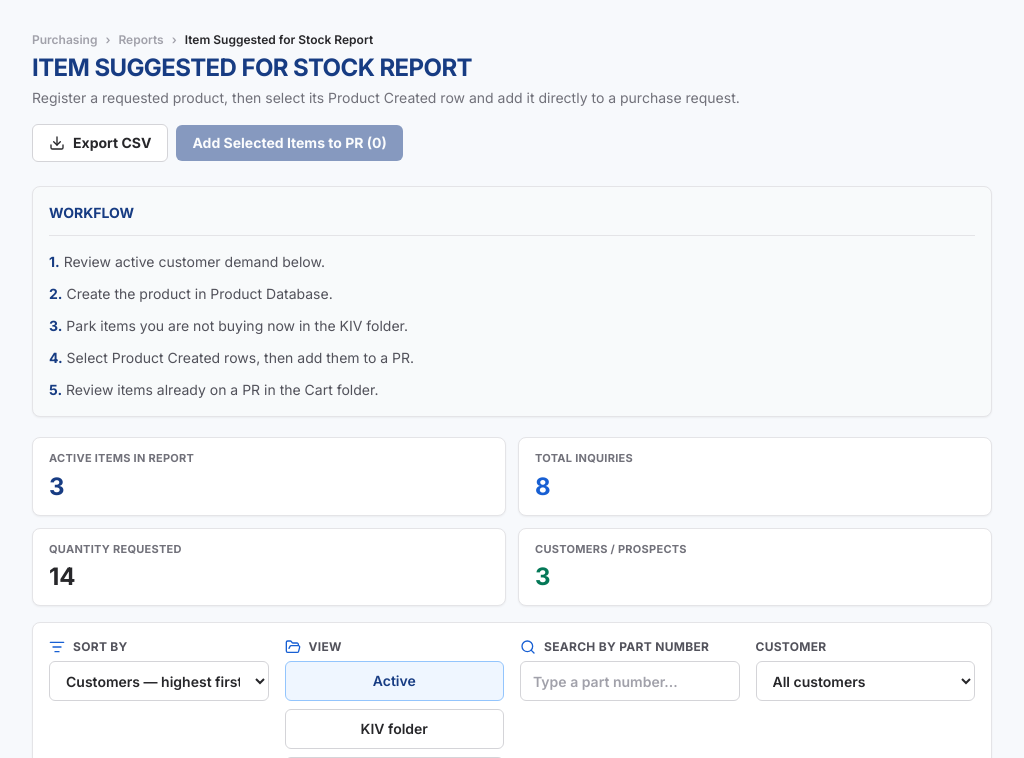
Scenario: SuggestedStockReport filters › searches the full dataset through the API when Enter or Apply Filters is used
The image size is (1024, 758).
Type "PN-a" into the field labelled "Search by part number" at (630, 681), box x1=520 y1=661 x2=740 y2=701
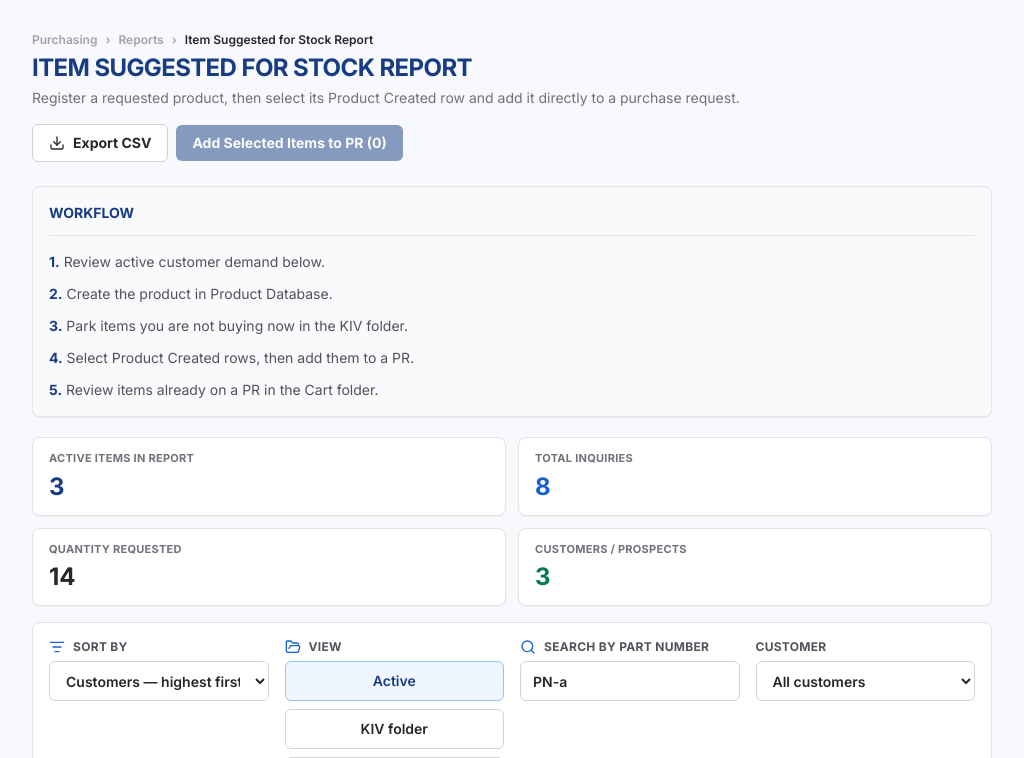
Press Enter in the field labelled "Search by part number", box x1=520 y1=661 x2=740 y2=701
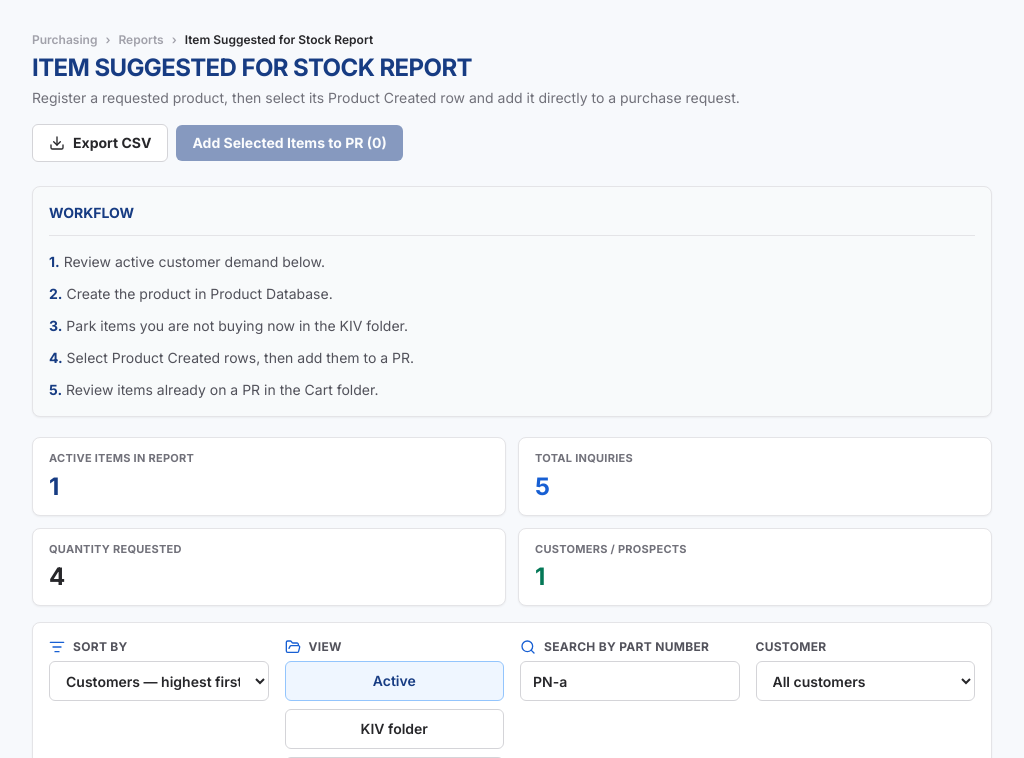
Replace the text in the field labelled "Search by part number" with "PN-z" at (630, 681), box x1=520 y1=661 x2=740 y2=701
(page scrolled)
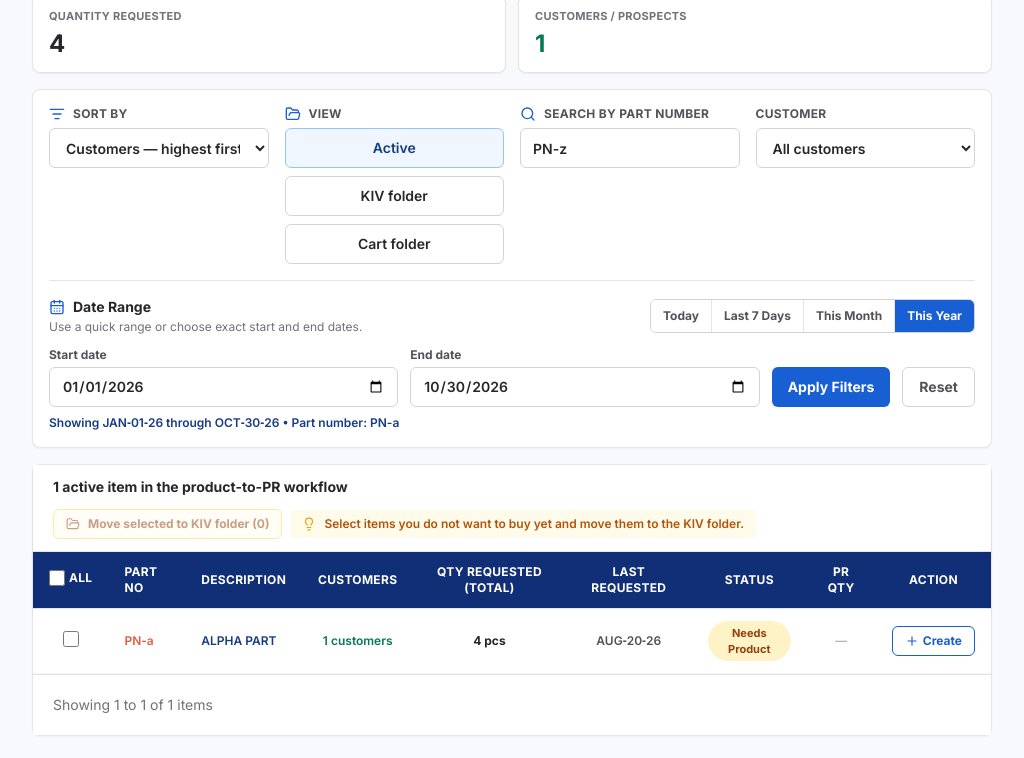
Click the button "Apply Filters" at (831, 387), box x1=772 y1=367 x2=890 y2=407
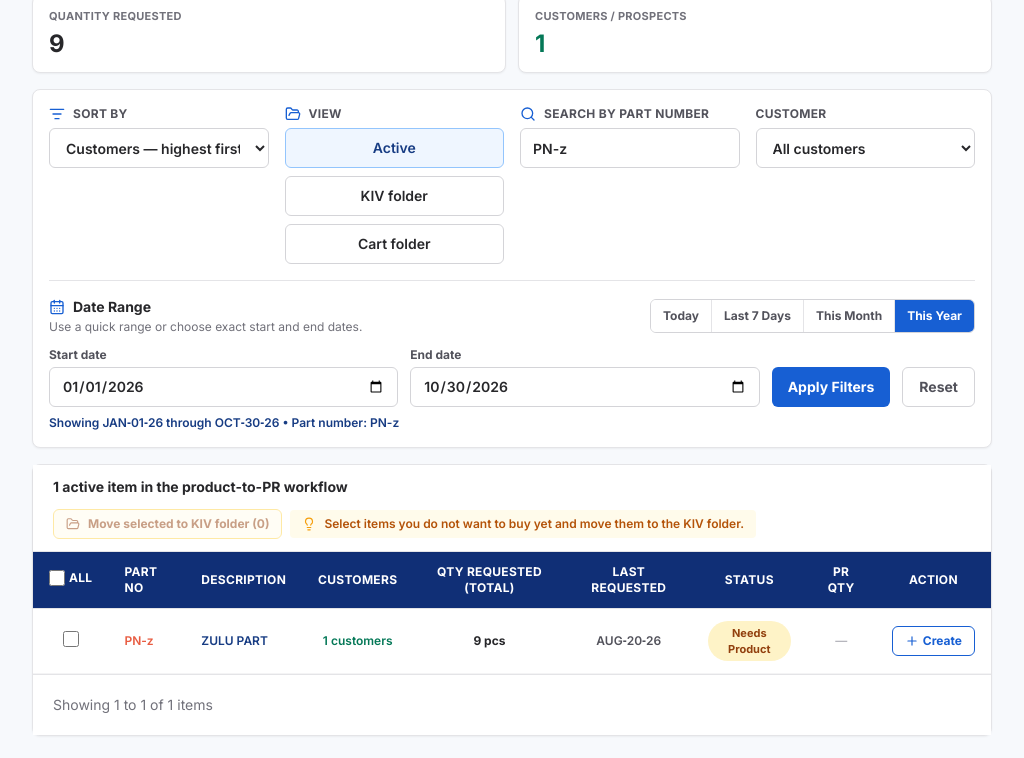
Now the text "ZULU PART" is shown, box x1=185 y1=608 x2=302 y2=674
Now the text "ALPHA PART" is gone
